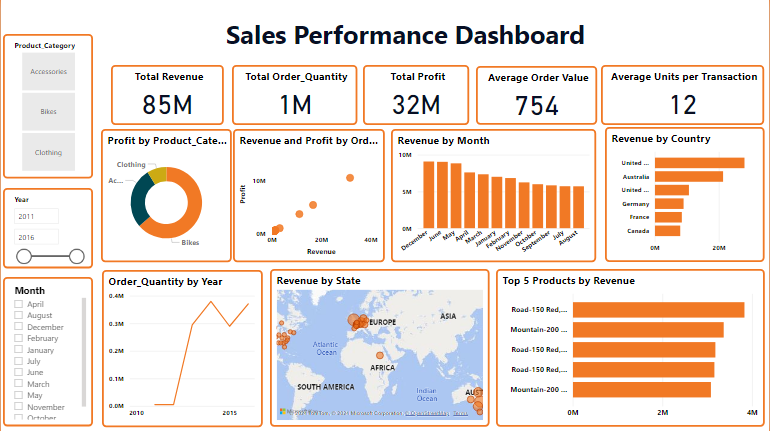

The dashboard page shown, as its layout file describes it:
{"tool":"powerbi","page":{"name":"Page 1","canvas":[1280,720],"ordinal":0},"visuals":[{"type":"slicer","fields":{"Values":["Sales.Product_Category"]},"box":[3,57.5,149.8,240.6],"z":0},{"type":"card","title":"Total Revenue","fields":{"Values":["Sum(Sales.Revenue)"]},"box":[183.1,108.9,187.6,99.9],"z":1000},{"type":"card","title":"Total Order_Quantity","fields":{"Values":["Sum(Sales.Order_Quantity)"]},"box":[384.3,108.9,208.8,99.9],"z":2000},{"type":"map","title":"Revenue by State","fields":{"Size":["Sum(Sales.Revenue)"],"Category":["Sales.State"]},"box":[447.8,447.8,366.1,263.3],"z":3000},{"type":"columnChart","title":"Revenue by Month","fields":{"Y":["Sum(Sales.Revenue)"],"Category":["Sales.Month"]},"box":[650.6,214.8,341.9,222.4],"z":4000},{"type":"barChart","title":"Top 5 Products by Revenue","fields":{"Category":["Sales.Product"],"Y":["Sum(Sales.Revenue)"]},"box":[824.6,447.8,447.8,263.3],"z":5000},{"type":"card","title":"Total Profit","fields":{"Values":["Sum(Sales.Profit)"]},"box":[603.7,108.9,177,99.9],"z":6000},{"type":"card","title":"Average Order Value","fields":{"Values":["Sales.Average Order Value"]},"box":[791.7,110,201.7,98.3],"z":7000},{"type":"card","title":"Average Units per Transaction","fields":{"Values":["Sales.Average Units per Transaction"]},"box":[1000,108.3,271.7,100],"z":8000},{"type":"clusteredBarChart","title":"Revenue by Country","fields":{"Category":["Sales.Country"],"Y":["Sum(Sales.Revenue)"]},"box":[1006.1,211.8,266.3,225.4],"z":10000},{"type":"scatterChart","title":"Revenue and Profit by Order_Quantity","fields":{"Y":["Sum(Sales.Profit)"],"X":["Sum(Sales.Revenue)"],"Category":["Sales.Order_Quantity"]},"box":[387.3,214.8,252.7,222.4],"z":11000},{"type":"lineChart","title":"Order_Quantity by Year","fields":{"Y":["Sum(Sales.Order_Quantity)"],"Category":["Sales.Year"]},"box":[167.9,449.4,267.8,261.7],"z":12000},{"type":"donutChart","title":"Profit by Product_Category","fields":{"Y":["Sum(Sales.Profit)"],"Category":["Sales.Product_Category"]},"box":[166.4,214.8,217.9,222.4],"z":13000},{"type":"slicer","fields":{"Values":["Sales.Year"]},"box":[3.4,314.1,149.5,134.4],"z":13001},{"type":"slicer","fields":{"Values":["Sales.Month"]},"box":[3,462,150,249],"z":13002},{"type":"textbox","box":[211.8,21.2,924.4,68.1],"z":13003}]}

Visuals, with their boxes in screenshot pixels (x1, y1, x2, y2), scaled from the page's 1280x720 canvas onto the 770x431 screenshot:
slicer - Sales.Product_Category: <box>2,34,92,178</box>
"Total Revenue" card: <box>110,65,223,125</box>
"Total Order_Quantity" card: <box>231,65,357,125</box>
"Revenue by State" map: <box>269,268,490,426</box>
"Revenue by Month" columnChart: <box>391,129,597,262</box>
"Top 5 Products by Revenue" barChart: <box>496,268,765,426</box>
"Total Profit" card: <box>363,65,470,125</box>
"Average Order Value" card: <box>476,66,598,125</box>
"Average Units per Transaction" card: <box>602,65,765,125</box>
"Revenue by Country" clusteredBarChart: <box>605,127,765,262</box>
"Revenue and Profit by Order_Quantity" scatterChart: <box>233,129,385,262</box>
"Order_Quantity by Year" lineChart: <box>101,269,262,426</box>
"Profit by Product_Category" donutChart: <box>100,129,231,262</box>
slicer - Sales.Year: <box>2,188,92,268</box>
slicer - Sales.Month: <box>2,277,92,426</box>
textbox: <box>127,13,683,53</box>
